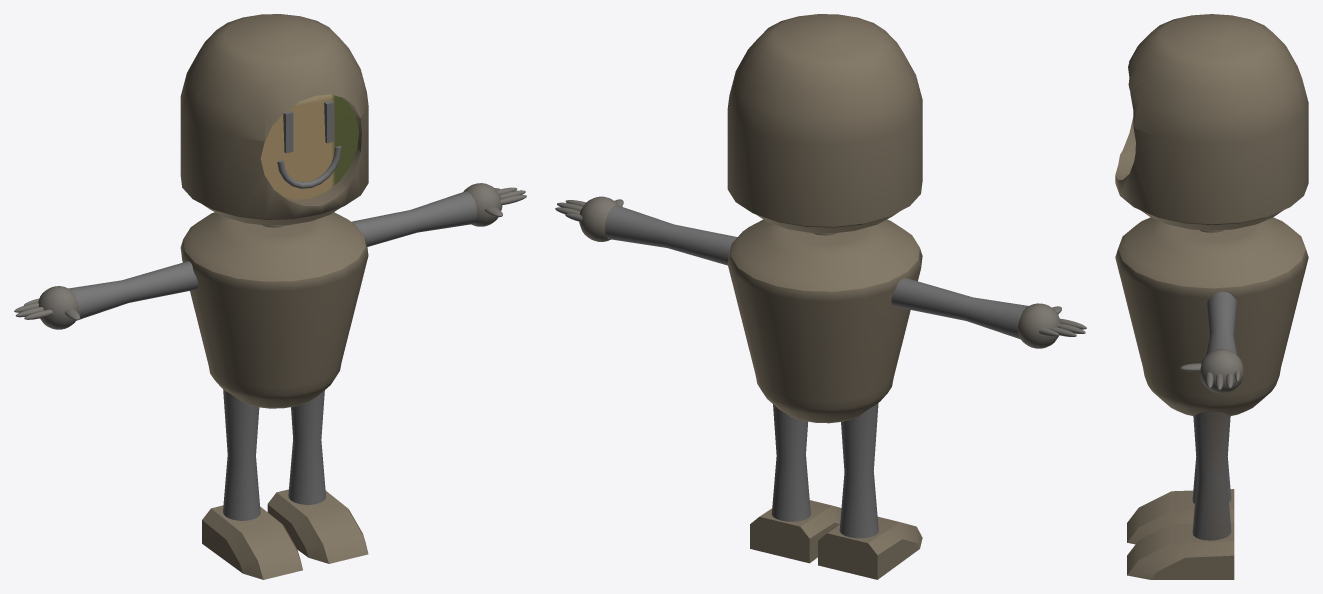
File: tio.fbx
3 renders of one model, left to right at view 1: azimuth 30°, elevation 25°; view 2: azimuth 150°, elevation 25°; view 3: azimuth 270°, elevation 25°, orthographic. The views are drawn at different scales.
Parts seen in each view (by area): view 1: polySurface47, cara; view 2: polySurface47; view 3: polySurface47.
Part boxes in pixels (x1,y1,x2,y2): polySurface47: [14, 14, 526, 579]; cara: [260, 94, 358, 199]; polySurface47: [555, 14, 1086, 579]; polySurface47: [1115, 14, 1308, 579].
Bounding box in the file's own units: 6.23 × 5.93 × 2.
